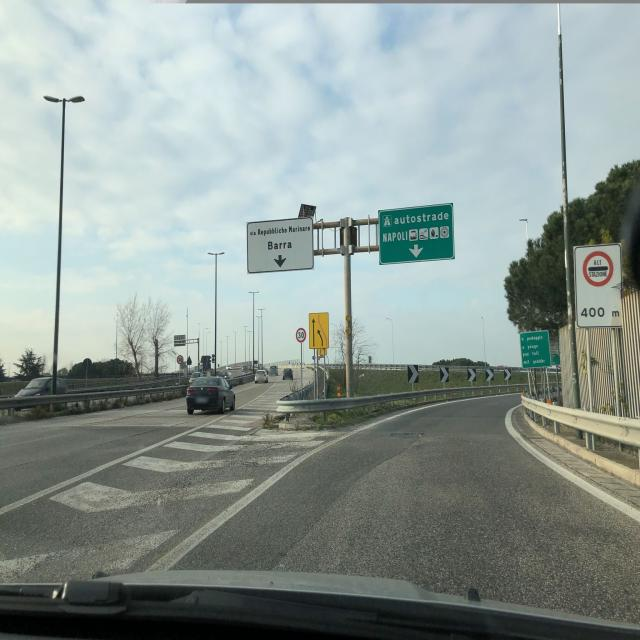car: (186, 374, 236, 415), (14, 375, 69, 399), (254, 368, 269, 384), (282, 367, 294, 381)
